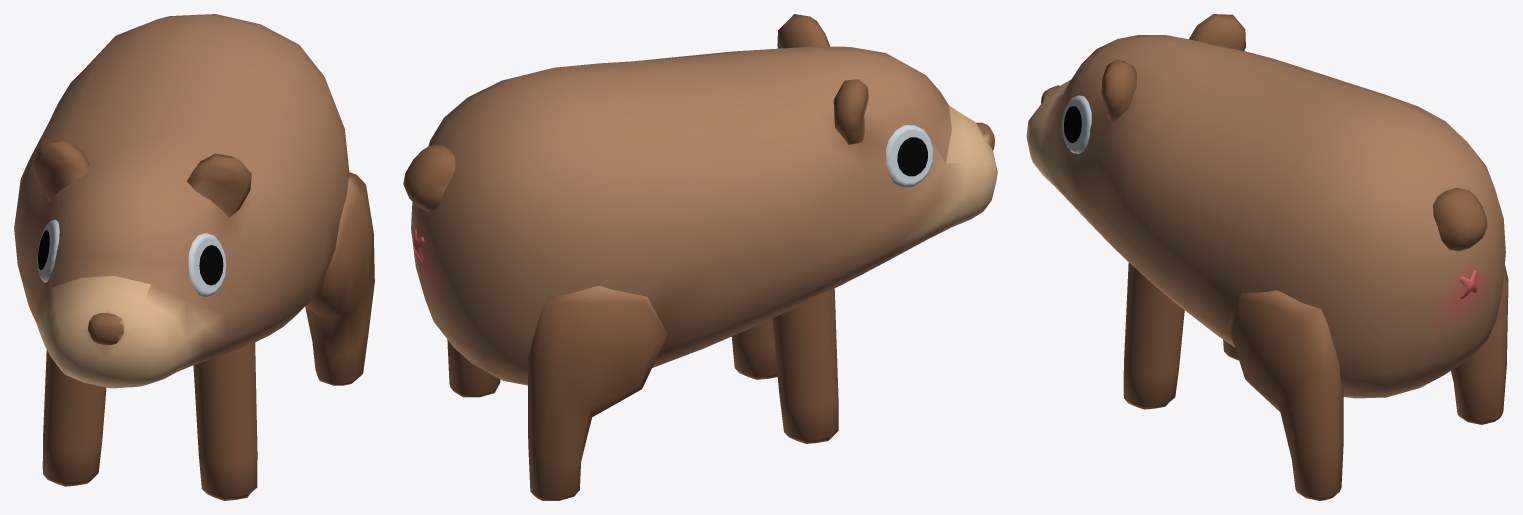
File: Bear.glb
3 renders of one model, left to right at view 1: azimuth 30°, elevation 25°; view 2: azimuth 150°, elevation 25°; view 3: azimuth 270°, elevation 25°, orthographic. The views are drawn at different scales.
Visible parts, largest first — view 1: 11; view 2: 11; view 3: 11.
Part boxes in pixels (x1,y1,x2,y2): 11: [14, 14, 374, 500]; 11: [403, 14, 997, 500]; 11: [1026, 14, 1508, 500].
Size of the model in its own units: 1.02 by 0.8135 by 1.07.
